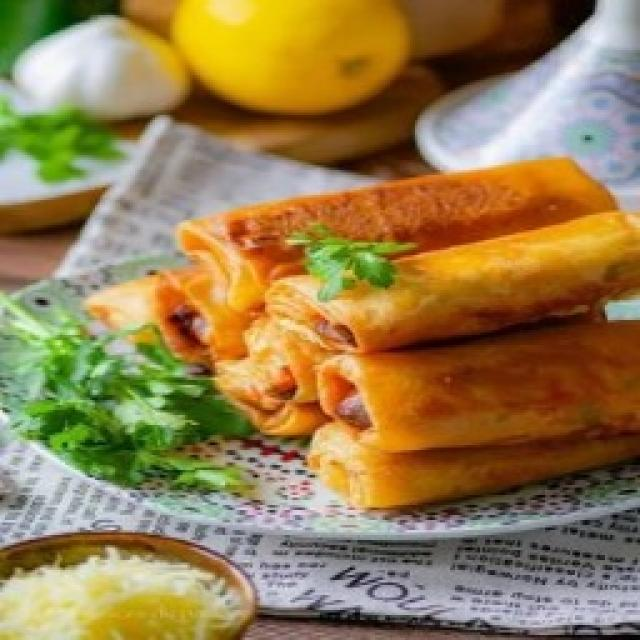Brik: (89, 158, 640, 507)
